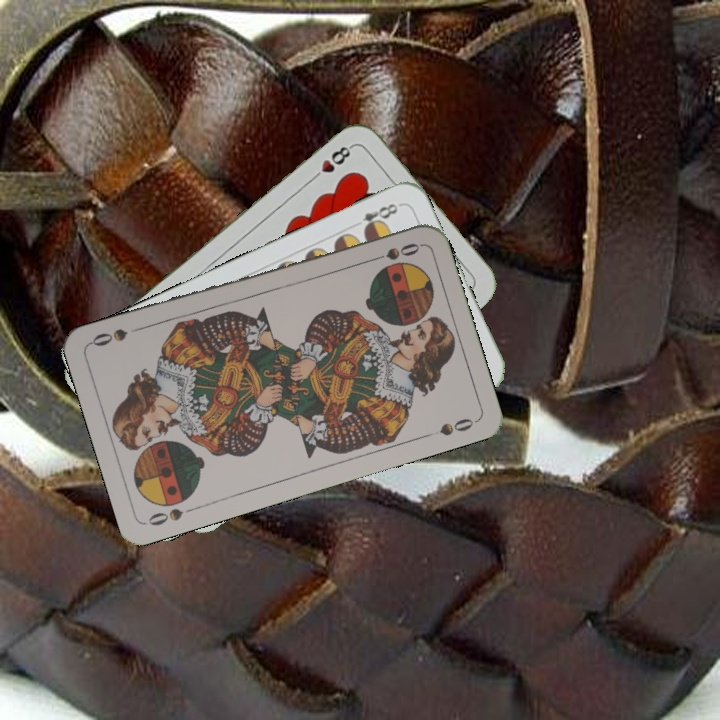E8: (358, 199, 403, 235)
H8: (307, 141, 356, 184)
SO: (143, 502, 201, 529), (365, 239, 423, 265)
